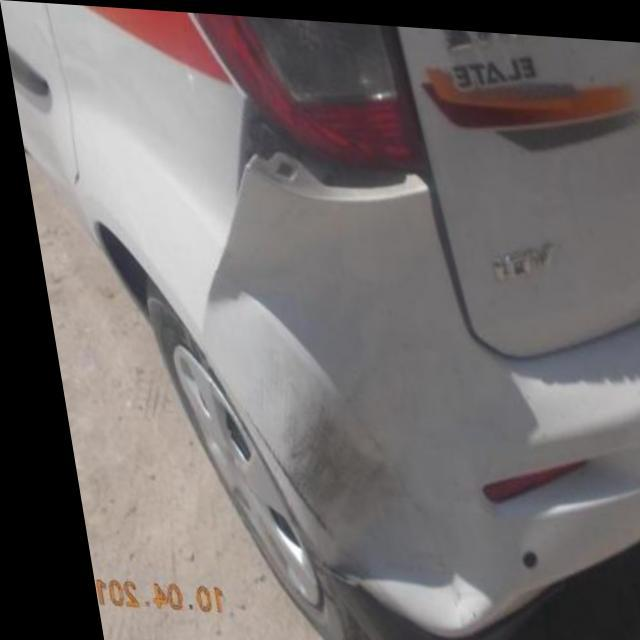dent: (250, 404, 471, 626), (183, 239, 311, 435)
dislocated part: (225, 89, 426, 202)
